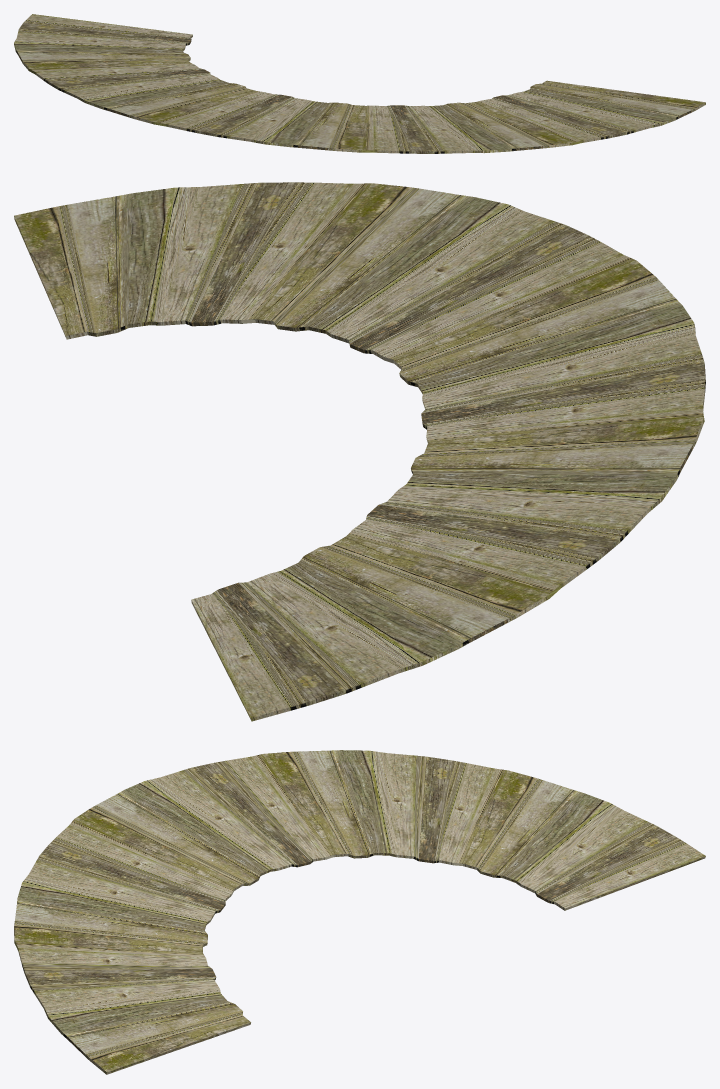
Rendered from Col-R-28g.fbx.
3 views of the same model, one above another, from view 1: azimuth 30°, elevation 25°; view 2: azimuth 150°, elevation 25°; view 3: azimuth 270°, elevation 25° (orthographic). The views are drawn at different scales.
Parts seen in each view (by area): view 1: GameObject__28_; view 2: GameObject__28_; view 3: GameObject__28_.
Boxes of the visible parts, x1,y1,x2,y2 form: GameObject__28_: (14, 14, 705, 153); GameObject__28_: (14, 182, 705, 721); GameObject__28_: (14, 750, 705, 1074).
Size of the model in its own units: 690 by 79.21 by 727.
